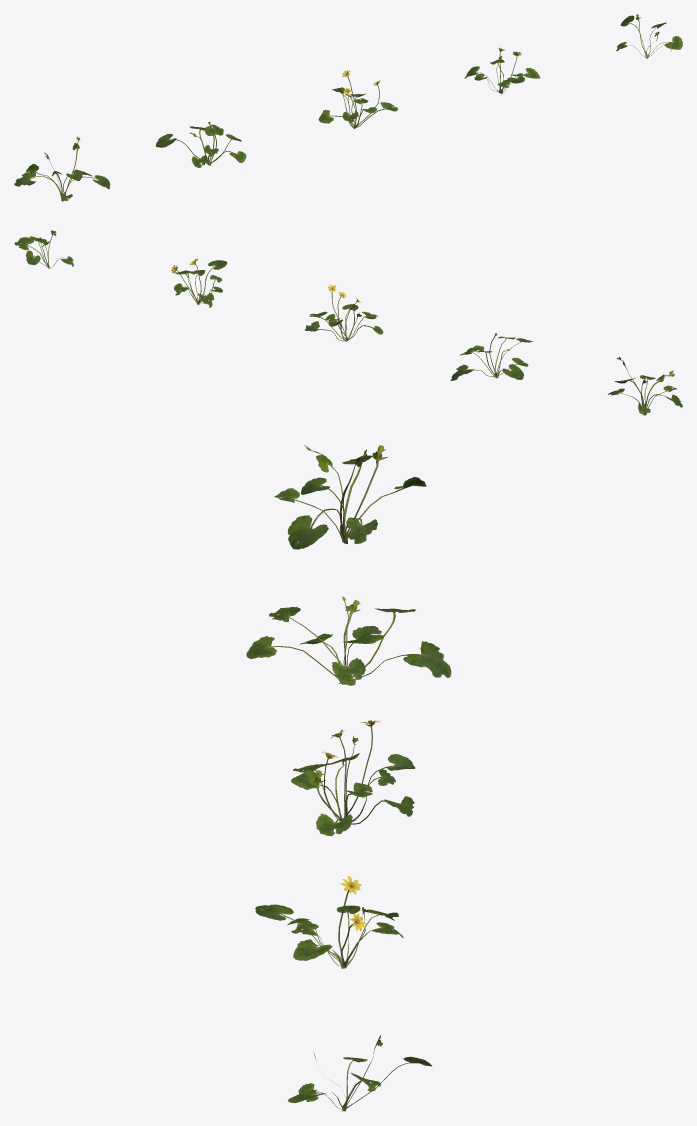
Rendered from celandine_01.glb.
3 renders of one model, top to bottom at view 1: azimuth 30°, elevation 25°; view 2: azimuth 150°, elevation 25°; view 3: azimuth 270°, elevation 25°, orthographic. The views are drawn at different scales.
Visible parts, largest first — view 1: celandine_01_b_LOD0, celandine_01_c_LOD0, celandine_01_a_LOD0, celandine_01_d_LOD0, celandine_01_e_LOD0; view 2: celandine_01_c_LOD0, celandine_01_b_LOD0, celandine_01_d_LOD0, celandine_01_a_LOD0, celandine_01_e_LOD0; view 3: celandine_01_b_LOD0, celandine_01_a_LOD0, celandine_01_c_LOD0, celandine_01_d_LOD0, celandine_01_e_LOD0.
Boxes of the visible parts, bbox=[...] form: celandine_01_b_LOD0: bbox=[155, 122, 246, 167]; celandine_01_c_LOD0: bbox=[318, 70, 398, 128]; celandine_01_a_LOD0: bbox=[14, 136, 110, 201]; celandine_01_d_LOD0: bbox=[464, 47, 540, 93]; celandine_01_e_LOD0: bbox=[616, 14, 682, 58]; celandine_01_c_LOD0: bbox=[305, 284, 383, 341]; celandine_01_b_LOD0: bbox=[450, 333, 533, 380]; celandine_01_d_LOD0: bbox=[171, 258, 227, 307]; celandine_01_a_LOD0: bbox=[608, 357, 682, 415]; celandine_01_e_LOD0: bbox=[14, 230, 73, 268]; celandine_01_b_LOD0: bbox=[246, 597, 451, 685]; celandine_01_a_LOD0: bbox=[274, 445, 426, 549]; celandine_01_c_LOD0: bbox=[291, 720, 415, 835]; celandine_01_d_LOD0: bbox=[255, 876, 403, 968]; celandine_01_e_LOD0: bbox=[288, 1035, 431, 1111].
Bounding box in the file's own units: 2.24 × 0.1859 × 0.3067.
1 material, 1 textured.
